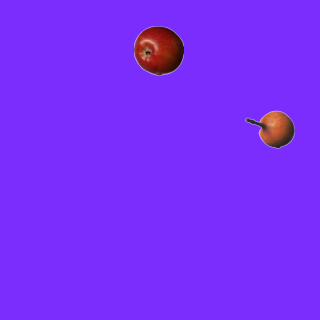Apple Braeburn: (133, 25, 183, 75)
Granadilla: (244, 104, 294, 154)
